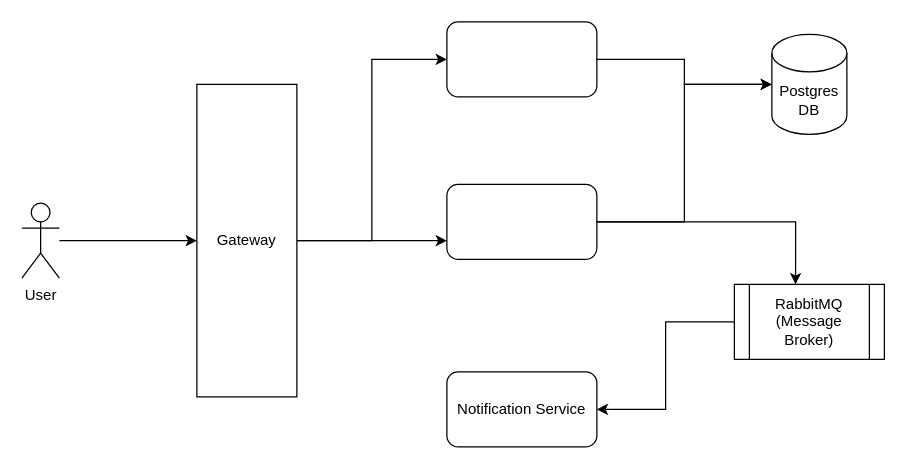
Some shapes in this 906 by 469 pixel diagram are drawn without their labels. The centre of each missing label's shape, as x and y in pixels:
Auth Service: point (521, 59)
Task Service: point (521, 221)
